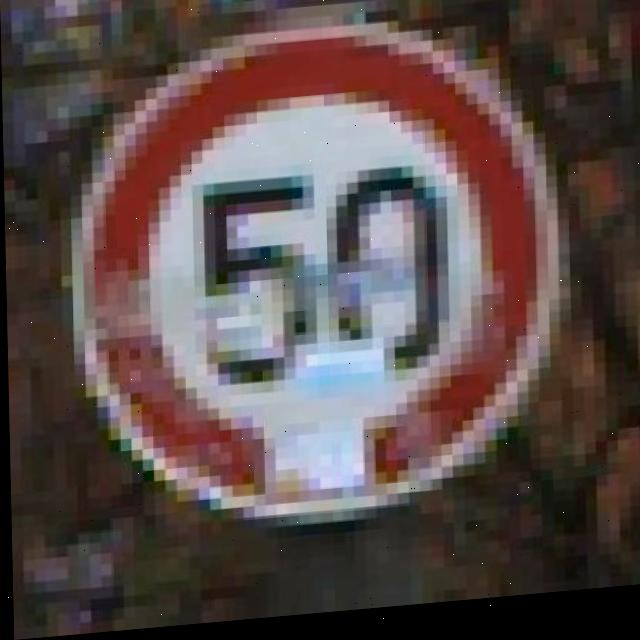Speed limit 50: (72, 20, 555, 541)
